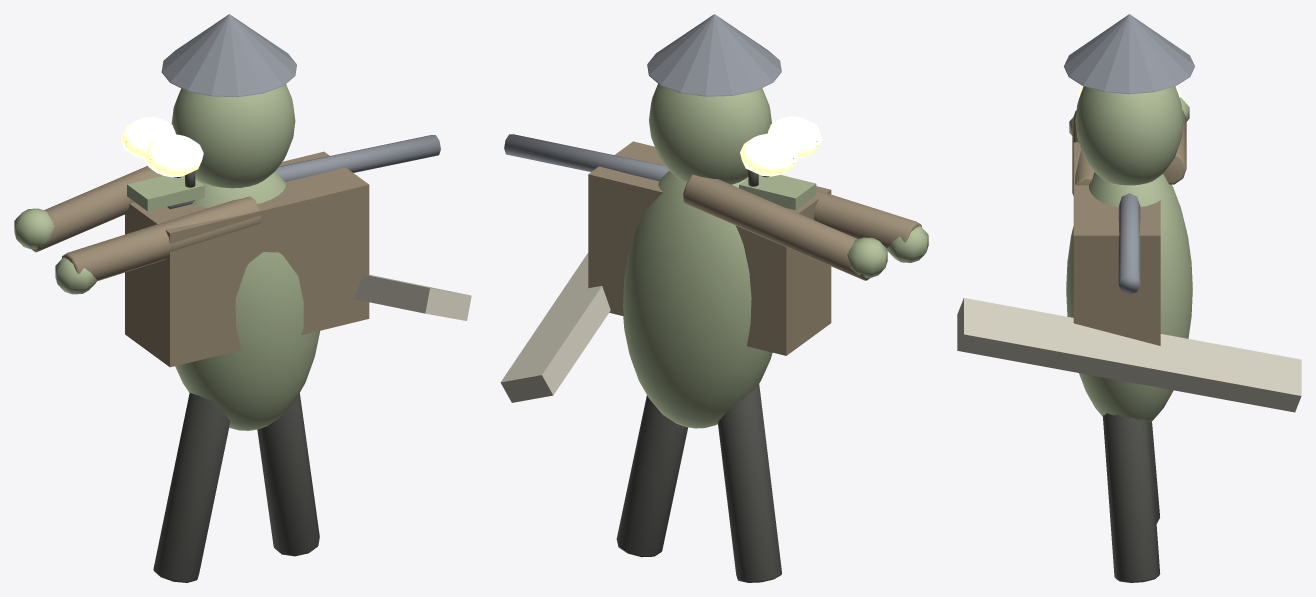
Rendered from digger.glb.
3 views of the same model, side by side, from view 1: azimuth 30°, elevation 25°; view 2: azimuth 150°, elevation 25°; view 3: azimuth 270°, elevation 25° (orthographic). The views are drawn at different scales.
Parts seen in each view (by area): view 1: chest, torso, head, leg, mining_helmet, leg.001, arm.001, arm, shovel_handle, shovel, eye.001, mouth_band (+3 smaller); view 2: torso, chest, head, leg, mining_helmet, shovel, leg.001, arm, shovel_handle, arm.001, eye, mouth_band (+3 smaller); view 3: shovel, chest, torso, head, leg.001, mining_helmet, shovel_handle, arm, arm.001.
Part boxes in pixels (bbox=[...]): chest: bbox=[125, 151, 369, 367]; torso: bbox=[175, 172, 319, 430]; head: bbox=[171, 84, 295, 188]; leg: bbox=[153, 392, 229, 582]; mining_helmet: bbox=[161, 14, 296, 97]; leg.001: bbox=[257, 393, 319, 556]; arm.001: bbox=[61, 196, 261, 281]; arm: bbox=[32, 166, 162, 252]; shovel_handle: bbox=[167, 135, 440, 209]; shovel: bbox=[354, 274, 471, 320]; eye.001: bbox=[144, 134, 203, 177]; mouth_band: bbox=[127, 175, 204, 211]; torso: bbox=[623, 171, 772, 428]; chest: bbox=[588, 141, 831, 355]; head: bbox=[649, 84, 771, 184]; leg: bbox=[718, 384, 781, 582]; mining_helmet: bbox=[647, 14, 781, 96]; shovel: bbox=[500, 253, 610, 402]; leg.001: bbox=[616, 395, 687, 557]; arm: bbox=[683, 174, 869, 280]; shovel_handle: bbox=[504, 134, 668, 180]; arm.001: bbox=[813, 190, 921, 248]; eye: bbox=[740, 133, 798, 176]; mouth_band: bbox=[739, 174, 816, 210]; shovel: bbox=[957, 298, 1301, 412]; chest: bbox=[1073, 142, 1160, 345]; torso: bbox=[1066, 172, 1192, 422]; head: bbox=[1075, 86, 1183, 185]; leg.001: bbox=[1102, 413, 1160, 582]; mining_helmet: bbox=[1064, 14, 1194, 94]; shovel_handle: bbox=[1118, 193, 1140, 294]; arm: bbox=[1163, 110, 1186, 184]; arm.001: bbox=[1072, 110, 1094, 195].
Bounding box in the file's own units: 1.06 × 1.41 × 0.8269.
